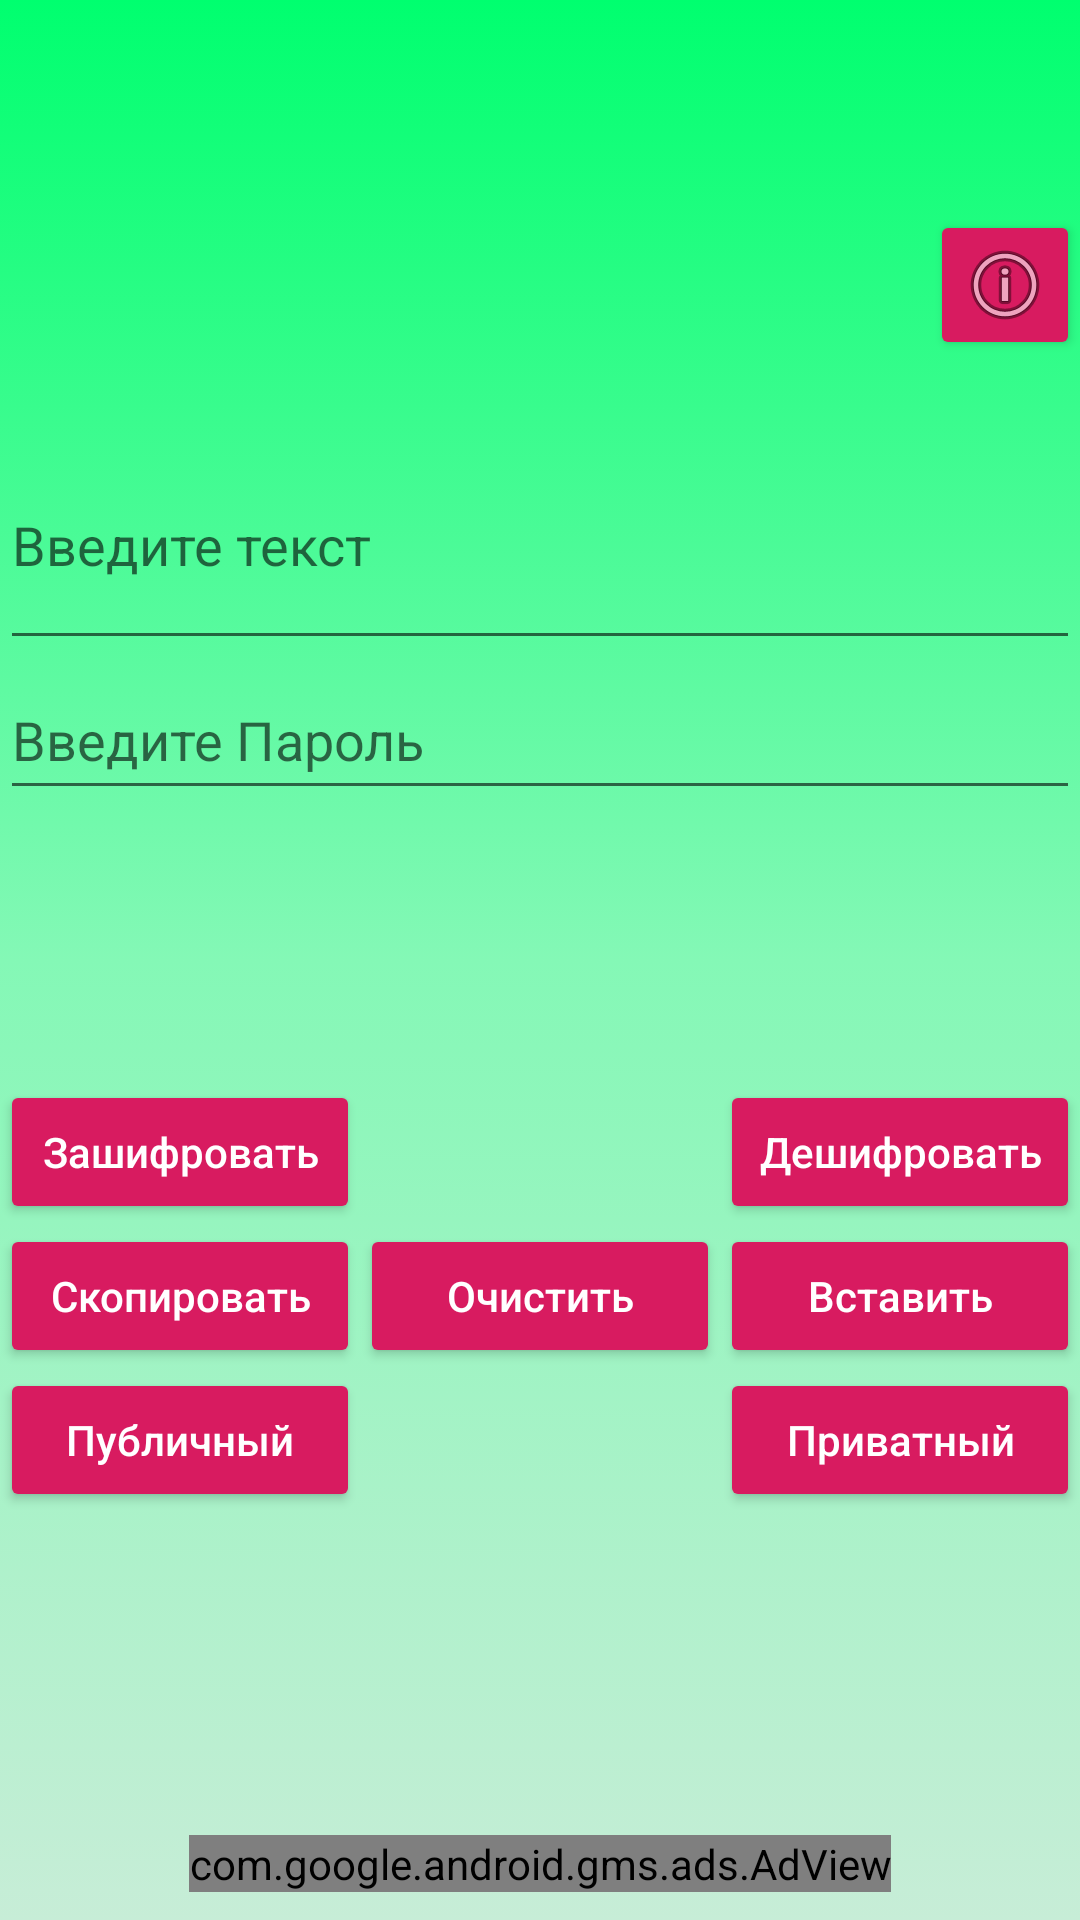

Screen size 1080 × 1920. Icon name, then its center in pixels as [x,y]:
info details: [1005,285]
